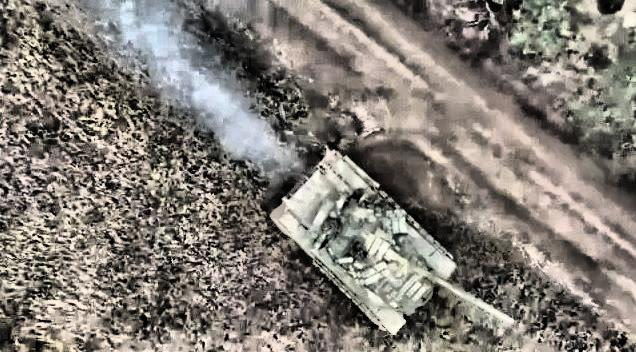military-vehicle: (266, 148, 516, 335)
